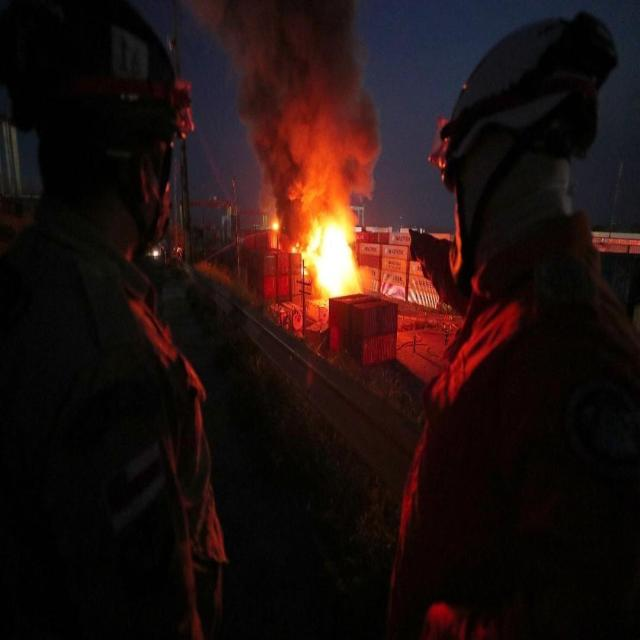Fire: (304, 219, 363, 296)
